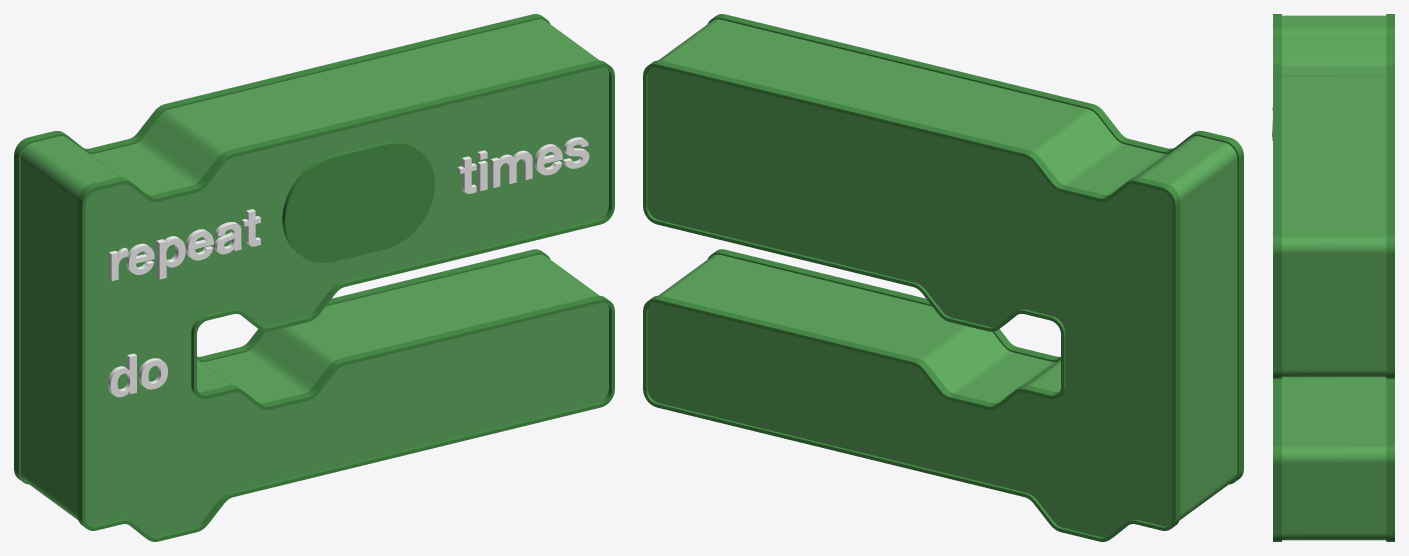
The model's file is controls_repeat_ext.gltf.
3 views of the same model, side by side, from view 1: azimuth 30°, elevation 25°; view 2: azimuth 150°, elevation 25°; view 3: azimuth 270°, elevation 25° (orthographic). The views are drawn at different scales.
Visible parts, largest first — view 1: Extrude.15, Extrude.14, Extrude, Extrude.16, Extrude.5, Extrude.11, Extrude.2, Extrude.9; view 2: Extrude.15, Extrude.16, Extrude.14; view 3: Extrude.15, Extrude.14, Extrude.16.
Part boxes in pixels (<box>): Extrude.15: <box>20,19,608,536</box>; Extrude.14: <box>77,60,614,541</box>; Extrude: <box>282,141,434,262</box>; Extrude.16: <box>14,14,550,484</box>; Extrude.5: <box>490,150,532,187</box>; Extrude.11: <box>156,236,185,279</box>; Extrude.2: <box>108,353,136,397</box>; Extrude.9: <box>214,222,241,254</box>; Extrude.15: <box>648,19,1237,537</box>; Extrude.16: <box>643,60,1180,541</box>; Extrude.14: <box>707,14,1243,484</box>; Extrude.15: <box>1282,15,1386,540</box>; Extrude.14: <box>1273,14,1281,541</box>; Extrude.16: <box>1386,14,1394,541</box>.
Size of the model in its own units: 0.3125 by 0.2071 by 0.0701.
